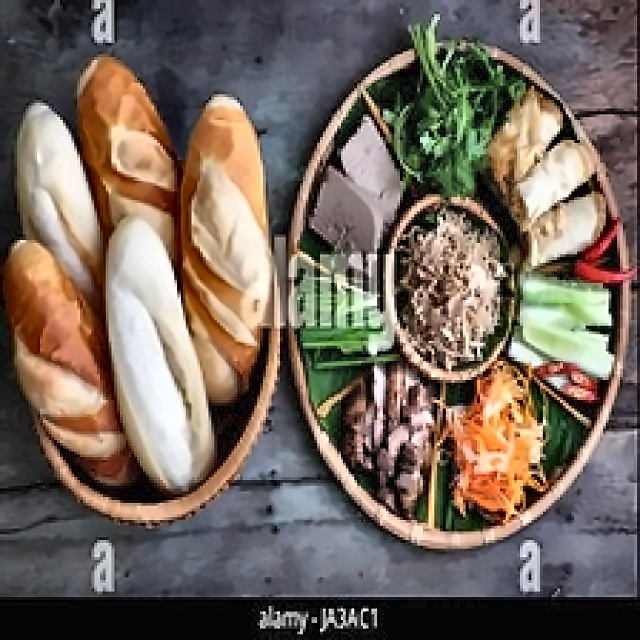bread: (13, 71, 271, 474)
